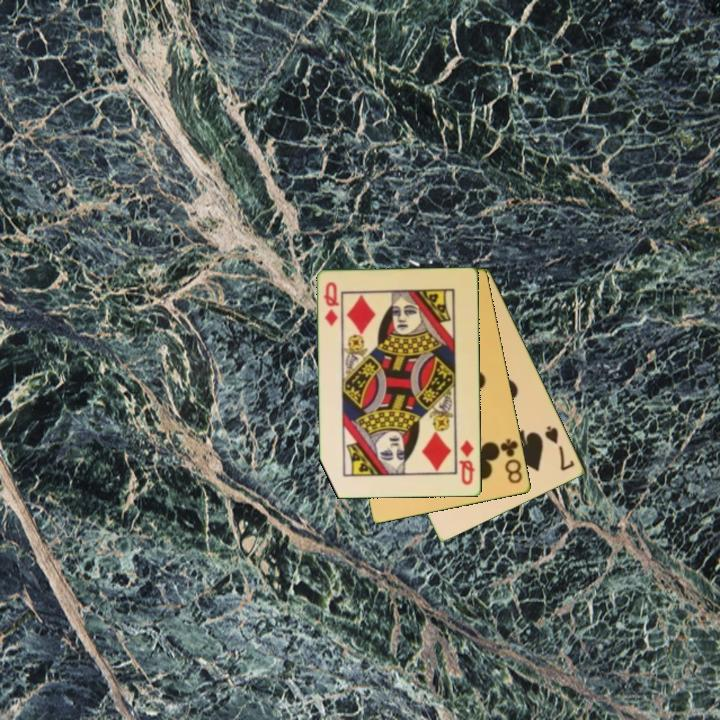7s: (541, 422, 578, 474)
8c: (497, 435, 526, 487)
Qd: (456, 437, 478, 488), (321, 278, 342, 329)
